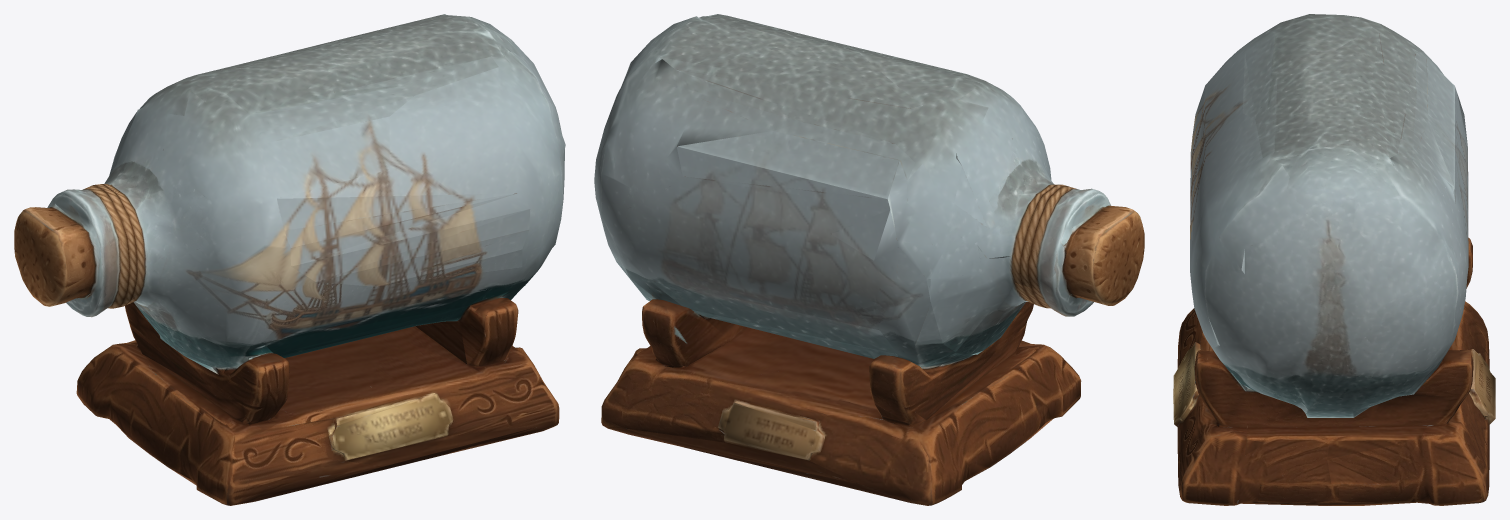
Rendered from Decor_ShipBottle.fbx.
3 renders of one model, left to right at view 1: azimuth 30°, elevation 25°; view 2: azimuth 150°, elevation 25°; view 3: azimuth 270°, elevation 25°, orthographic.
Parts seen in each view (by area): view 1: Mesh_0; view 2: Mesh_0; view 3: Mesh_0.
Boxes of the visible parts, bbox=[...] form: Mesh_0: bbox=[14, 14, 565, 505]; Mesh_0: bbox=[594, 14, 1144, 505]; Mesh_0: bbox=[1173, 14, 1495, 505].
Bounding box in the file's own units: 190 × 128 × 105.
Materials: 1 (1 with a texture image).
